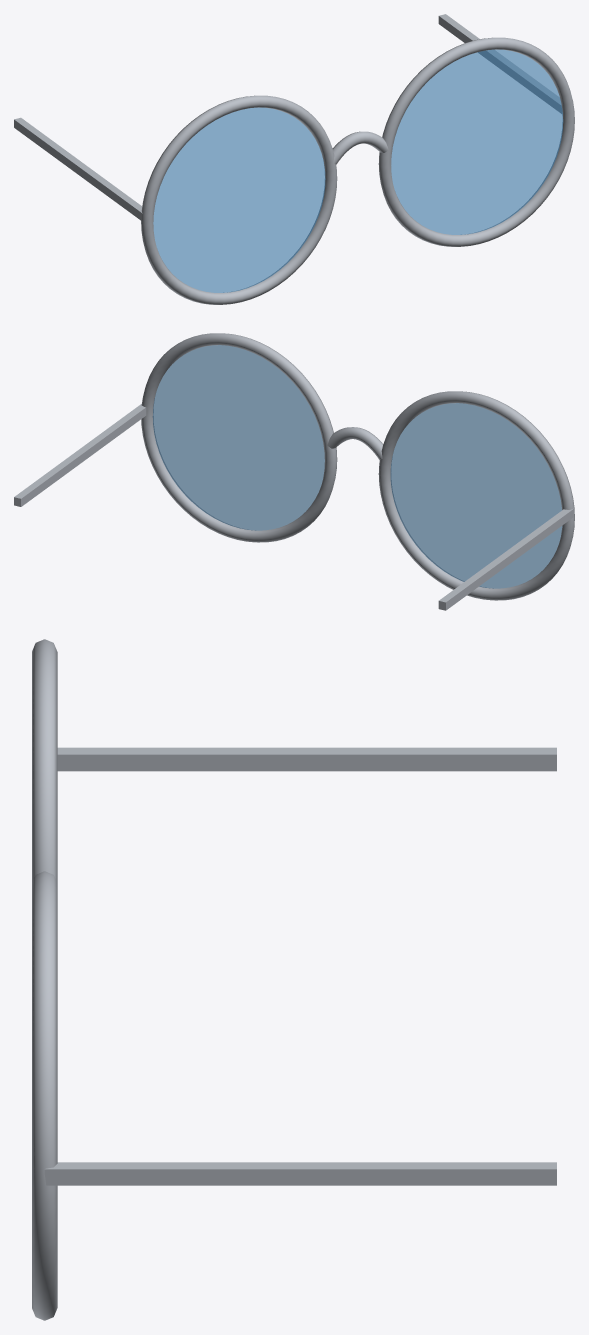
File: spring.glb
3 views of the same model, one above another, from view 1: azimuth 30°, elevation 25°; view 2: azimuth 150°, elevation 25°; view 3: azimuth 270°, elevation 25° (orthographic). The views are drawn at different scales.
Visible parts, largest first — view 1: lens (×2), object 1, object 4, object 3, object 6, object 7; view 2: lens (×2), object 4, object 1, object 3, object 6, object 7; view 3: object 3, object 6, object 4, object 1.
Part boxes in pixels (left/top/right/bottom): lens (×2): left=153, top=49, right=563, bottom=292; object 1: left=141, top=95, right=337, bottom=304; object 4: left=378, top=37, right=574, bottom=246; object 3: left=14, top=117, right=142, bottom=220; object 6: left=438, top=14, right=561, bottom=113; object 7: left=332, top=131, right=388, bottom=164; lens (×2): left=152, top=345, right=562, bottom=588; object 4: left=141, top=333, right=337, bottom=542; object 1: left=378, top=391, right=574, bottom=600; object 3: left=438, top=508, right=573, bottom=610; object 6: left=14, top=403, right=146, bottom=506; object 7: left=327, top=427, right=383, bottom=459; object 3: left=57, top=747, right=556, bottom=771; object 6: left=44, top=1162, right=556, bottom=1185; object 4: left=32, top=871, right=57, bottom=1320; object 1: left=32, top=639, right=57, bottom=883.
Bounding box in the file's own units: 2.73 × 1.23 × 1.43.
